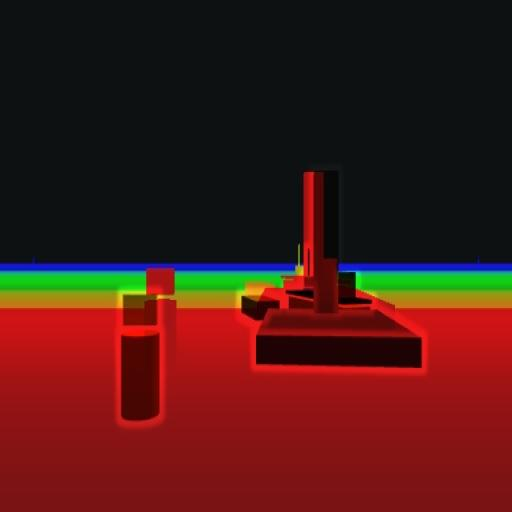buoy: (122, 292, 160, 422)
